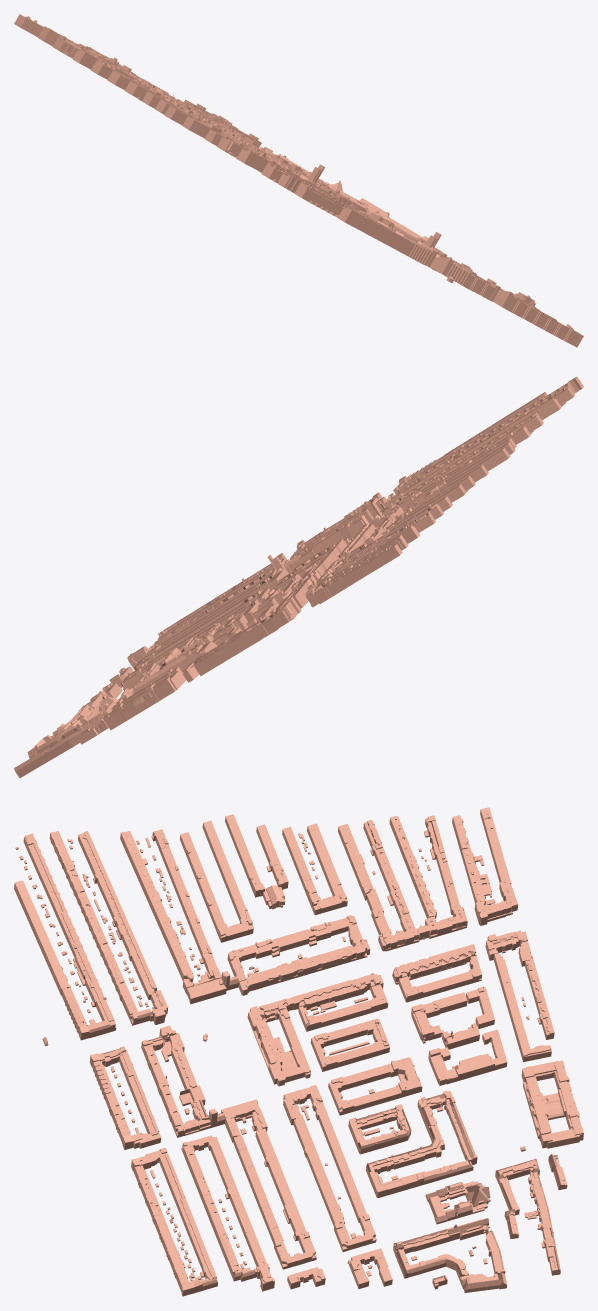
The picture shows the model from 3 angles, top to bottom: view 1: azimuth 30°, elevation 25°; view 2: azimuth 150°, elevation 25°; view 3: azimuth 270°, elevation 25°; orthographic projection. The views are drawn at different scales.
Size of the model in its own units: 1.73e+07 by 1.29e+07 by 2.16e+07.
